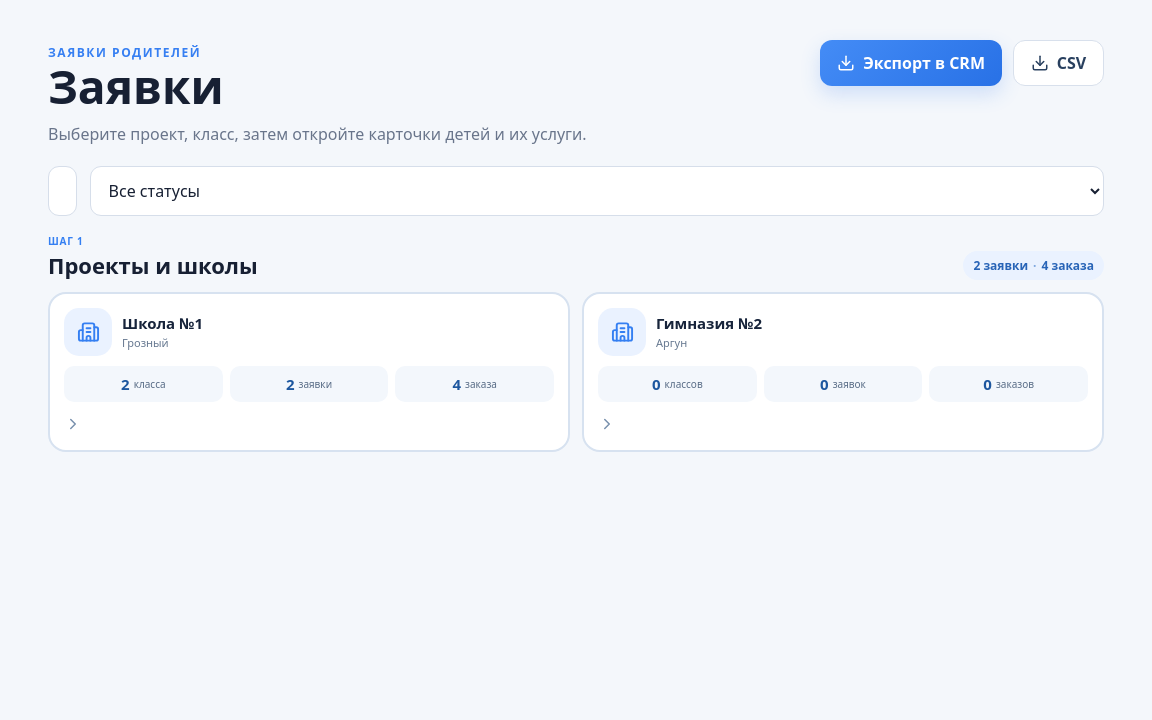
Scenario: orders hierarchy › removes an order from the active workspace when it is cancelled
The width and height of the screenshot is (1152, 720).
Click the button "Школа №1 Грозный 2 класса 2 заявки 4 заказа". click: (309, 372)
box: [48,292,570,452]
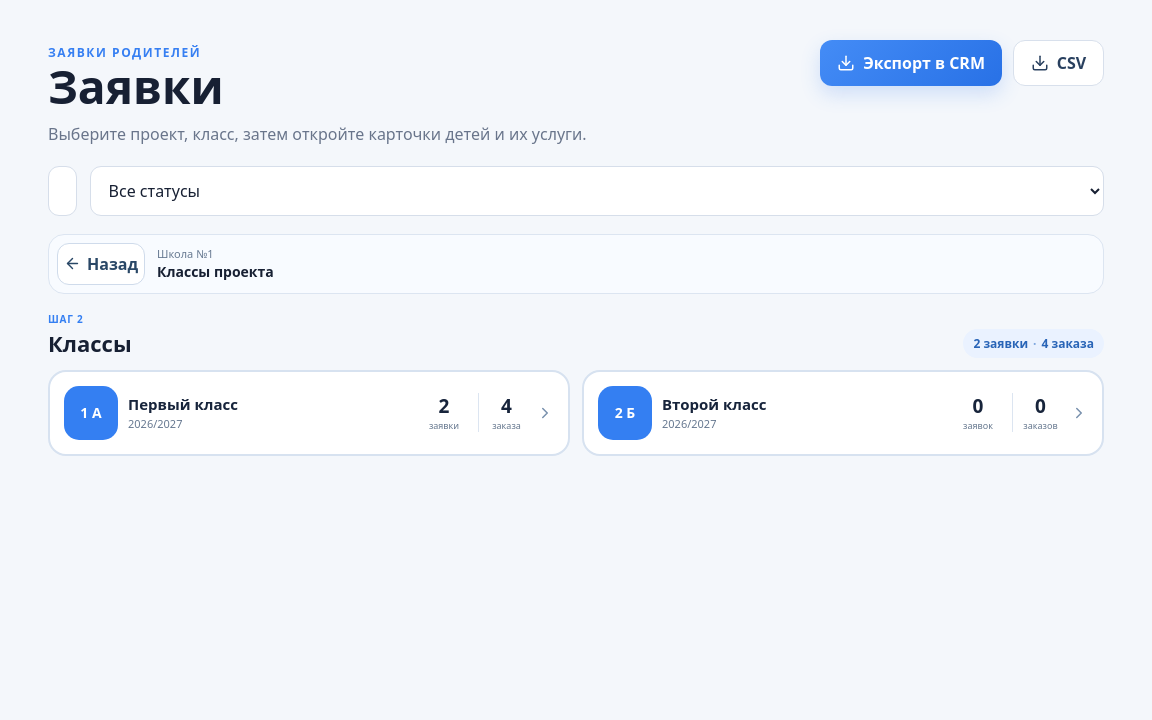
Click the button "1 А Первый класс 2026/2027 2 заявки 4 заказа". click: (91, 413)
box: [48,370,570,456]
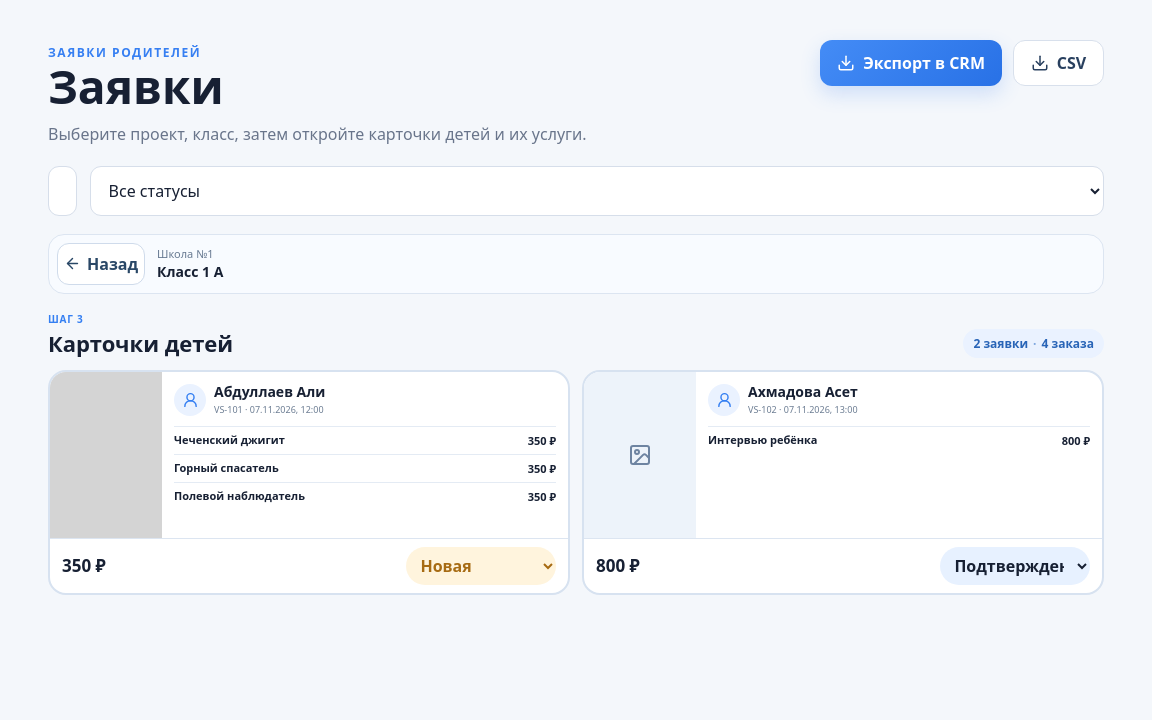
Select "Отменена" in the dropdown named "Статус заявки Абдуллаев Али". click: (481, 566)
box: [406,547,556,585]
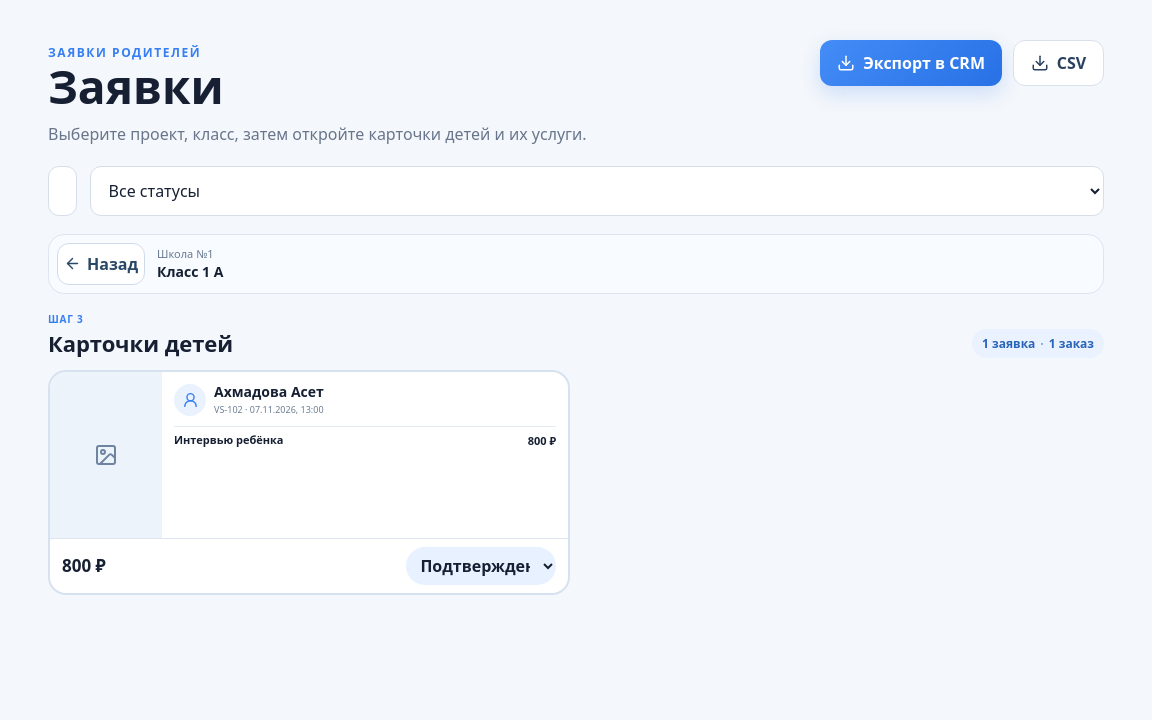
Expected: the text "Абдуллаев Али" is gone
